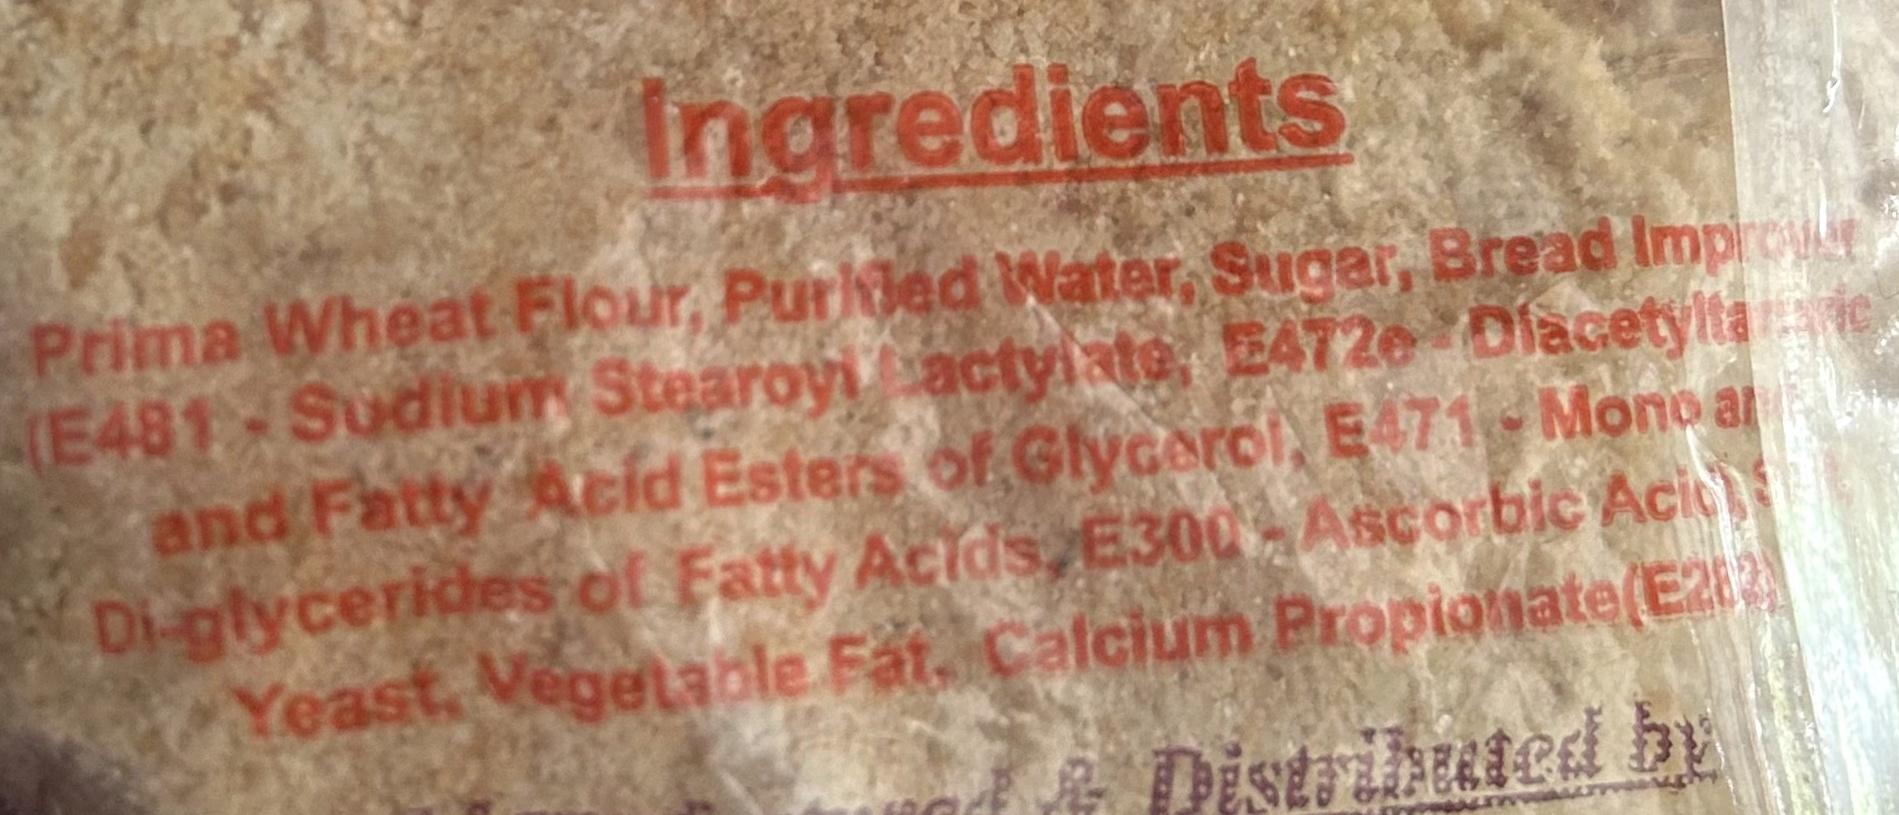ingredients: (18, 28, 1895, 763)
